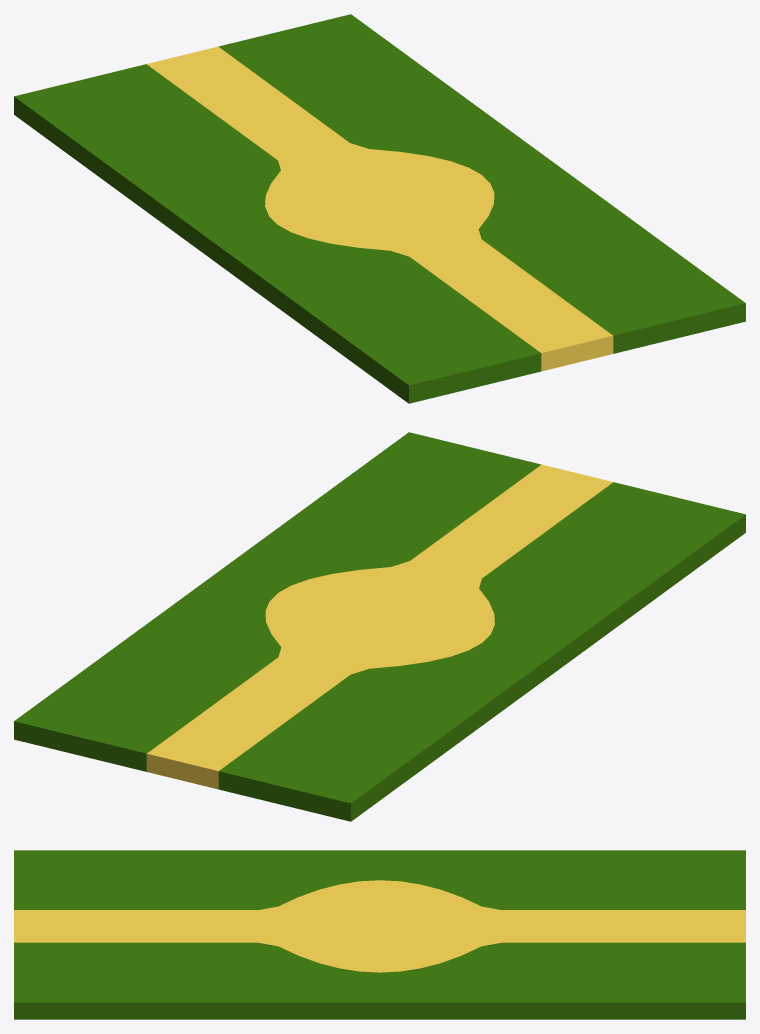
File: SM_Rasentile_03.fbx
3 views of the same model, one above another, from view 1: azimuth 30°, elevation 25°; view 2: azimuth 150°, elevation 25°; view 3: azimuth 270°, elevation 25° (orthographic). The views are drawn at different scales.
Visible parts, largest first — view 1: Rasentile_03.001; view 2: Rasentile_03.001; view 3: Rasentile_03.001.
Part boxes in pixels (box(x1,y1,x2,y2)): Rasentile_03.001: box(14, 14, 745, 403); Rasentile_03.001: box(14, 432, 745, 821); Rasentile_03.001: box(14, 850, 745, 1019).
Size of the model in its own units: 2461 by 128 by 4996.
